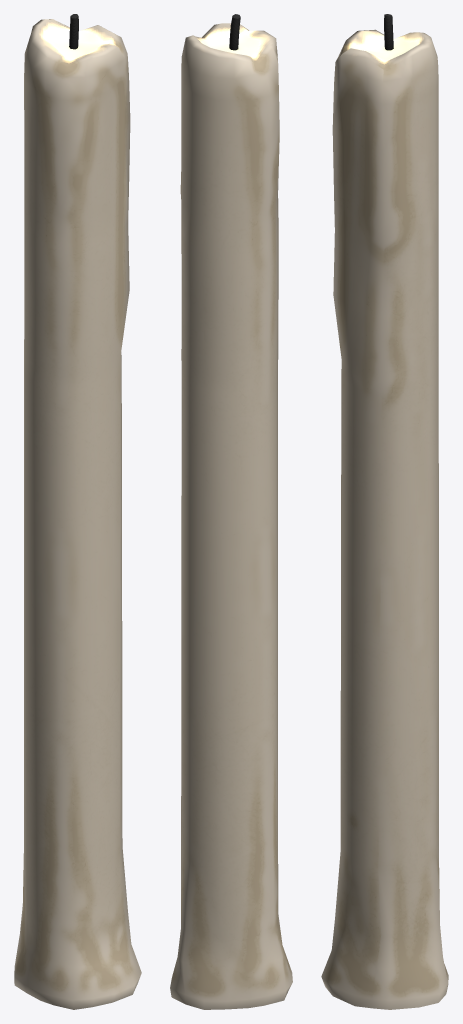
Rendered from SM_Candle3.fbx.
3 renders of one model, left to right at view 1: azimuth 90°, elevation 25°; view 2: azimuth 150°, elevation 25°; view 3: azimuth 270°, elevation 25°, orthographic.
Parts seen in each view (by area): view 1: SM_Candle3_LOD0; view 2: SM_Candle3_LOD0; view 3: SM_Candle3_LOD0.
Boxes of the visible parts, left/top/right/bottom form: SM_Candle3_LOD0: left=14, top=14, right=141, bottom=1009; SM_Candle3_LOD0: left=170, top=14, right=292, bottom=1009; SM_Candle3_LOD0: left=321, top=14, right=448, bottom=1009.
Size of the model in its own units: 9.62 by 9.87 by 82.85.
Materials: 1 (1 with a texture image).
